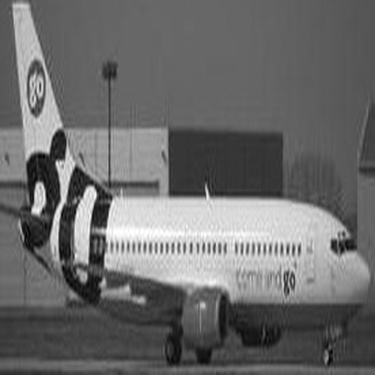airplane: (3, 3, 368, 372)
